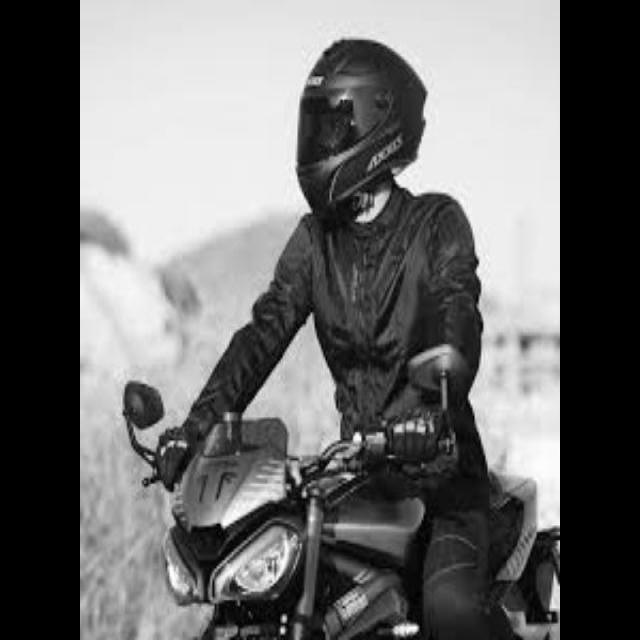5_casco: (296, 39, 426, 225)
